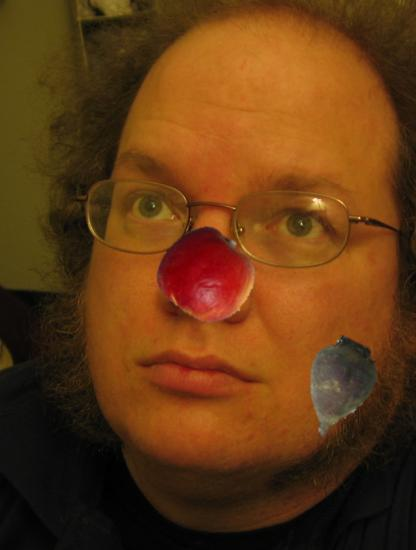Apple: (160, 228, 256, 324)
Beetroot: (282, 335, 390, 443)
